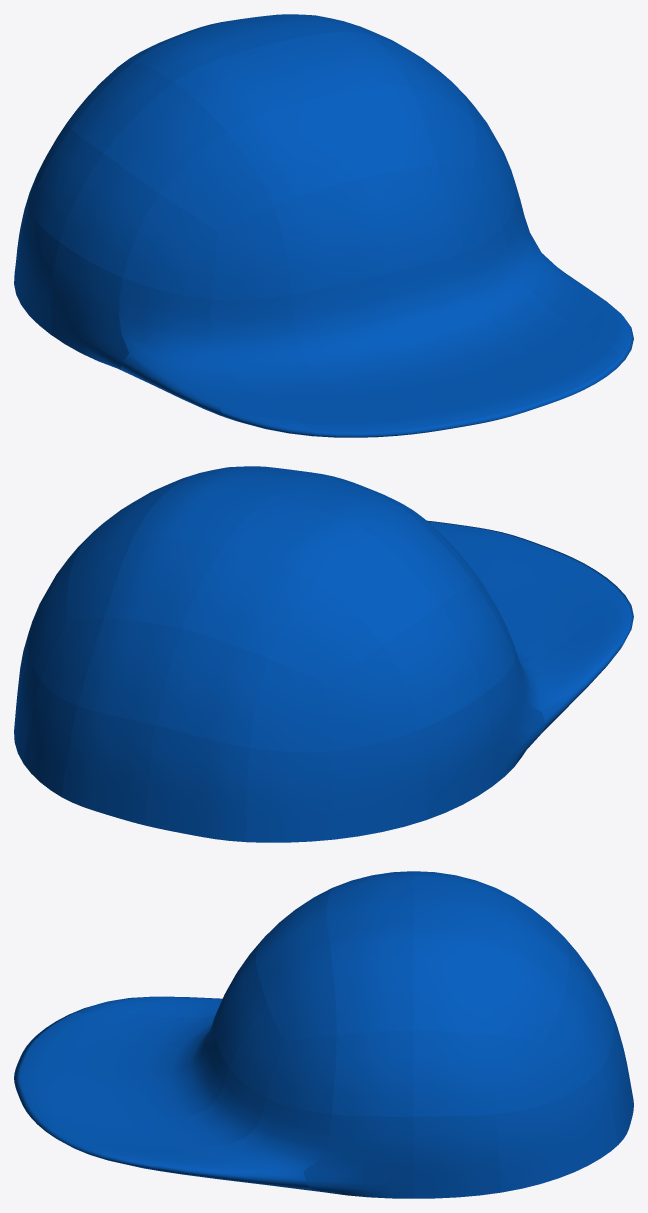
The model's file is ManHat.fbx.
3 renders of one model, top to bottom at view 1: azimuth 30°, elevation 25°; view 2: azimuth 150°, elevation 25°; view 3: azimuth 270°, elevation 25°, orthographic. The views are drawn at different scales.
Parts seen in each view (by area): view 1: man.004; view 2: man.004; view 3: man.004.
Boxes of the visible parts, <box> form: man.004: <box>14,14,633,437</box>; man.004: <box>14,466,633,842</box>; man.004: <box>14,871,633,1198</box>.
Size of the model in its own units: 114 by 59.05 by 160.
